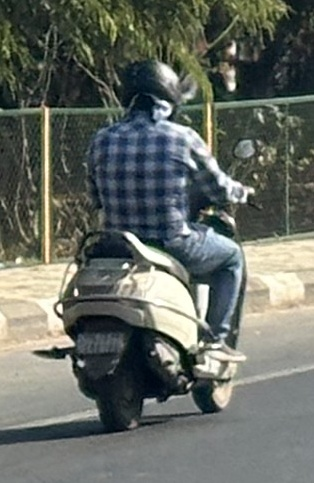BikeWithRider: (25, 51, 269, 437)
Helmet: (110, 52, 188, 127)
